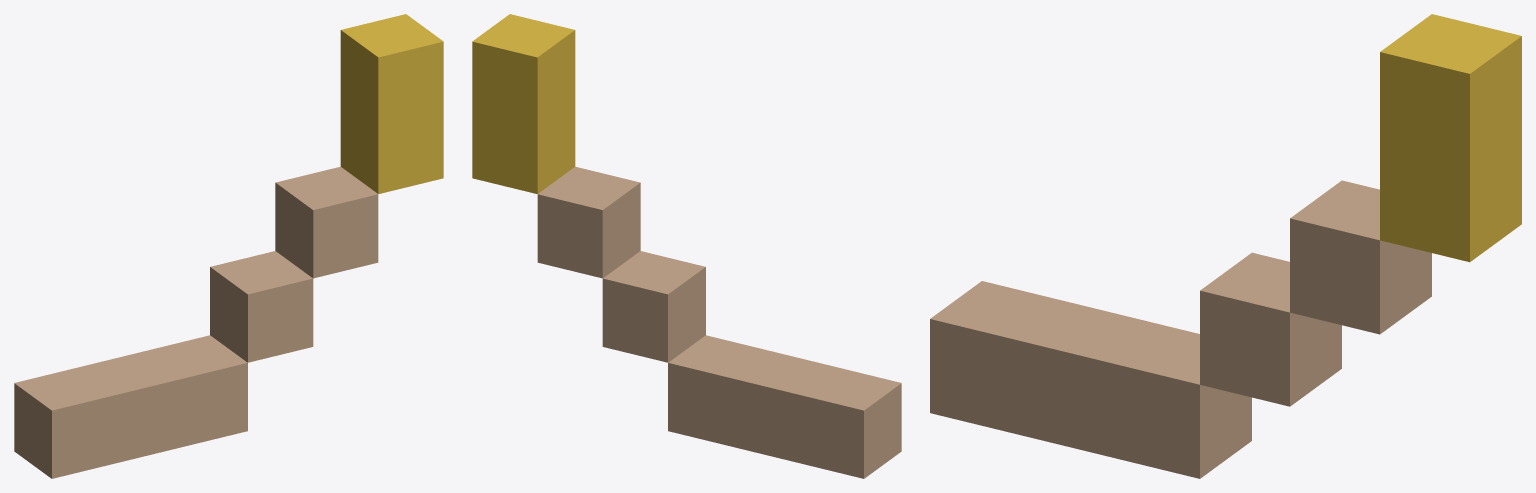
Rendered from orc-15-right_hand_attack.obj.
3 renders of one model, left to right at view 1: azimuth 30°, elevation 25°; view 2: azimuth 150°, elevation 25°; view 3: azimuth 330°, elevation 25°, orthographic. The views are drawn at different scales.
Visible parts, largest first — view 1: right_hand_attack; view 2: right_hand_attack; view 3: right_hand_attack.
Boxes of the visible parts, box(x1,y1,x2,y2) form: right_hand_attack: box(14, 14, 443, 478); right_hand_attack: box(472, 14, 901, 478); right_hand_attack: box(930, 14, 1521, 478).
Size of the model in its own units: 0.6 by 0.5 by 0.1.
Materials: 1 (1 with a texture image).
